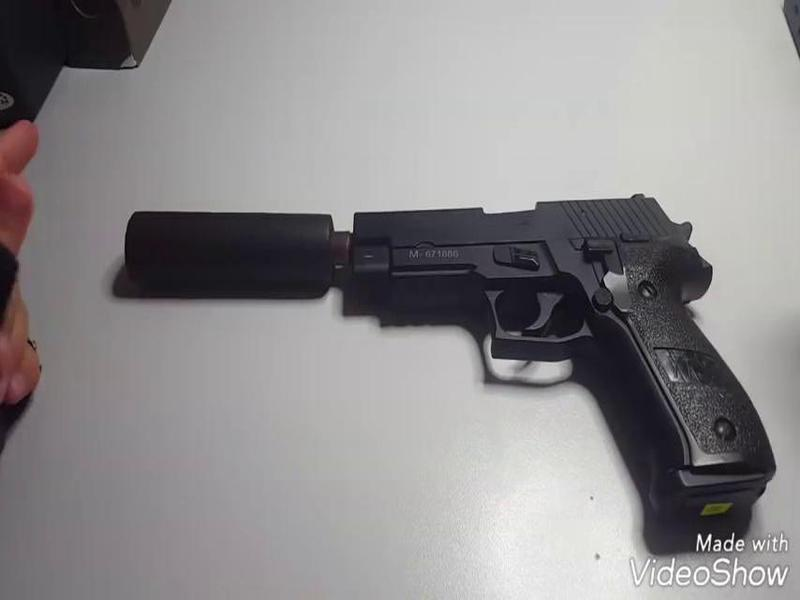Pistola: (145, 173, 768, 509)
